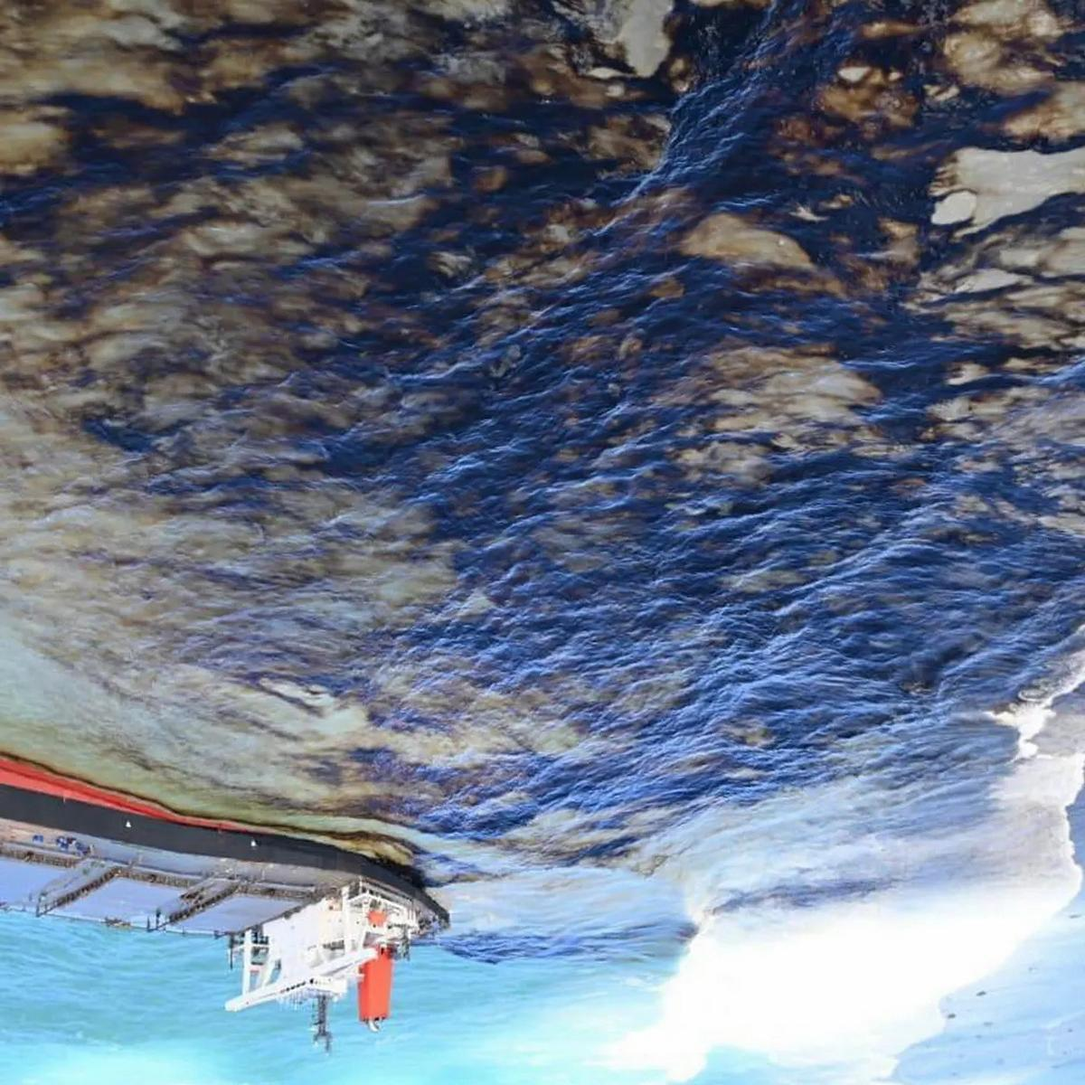Oil Pollution: (14, 0, 1085, 793)
